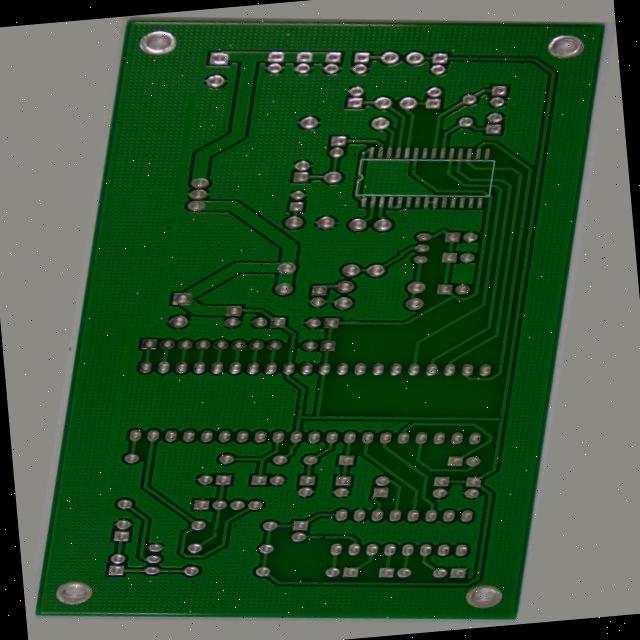mouse_bite: (238, 547, 256, 557), (379, 540, 395, 549), (312, 409, 325, 417)
